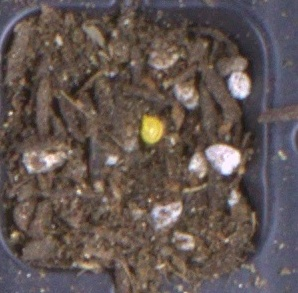chilli seed: (139, 114, 163, 145)
